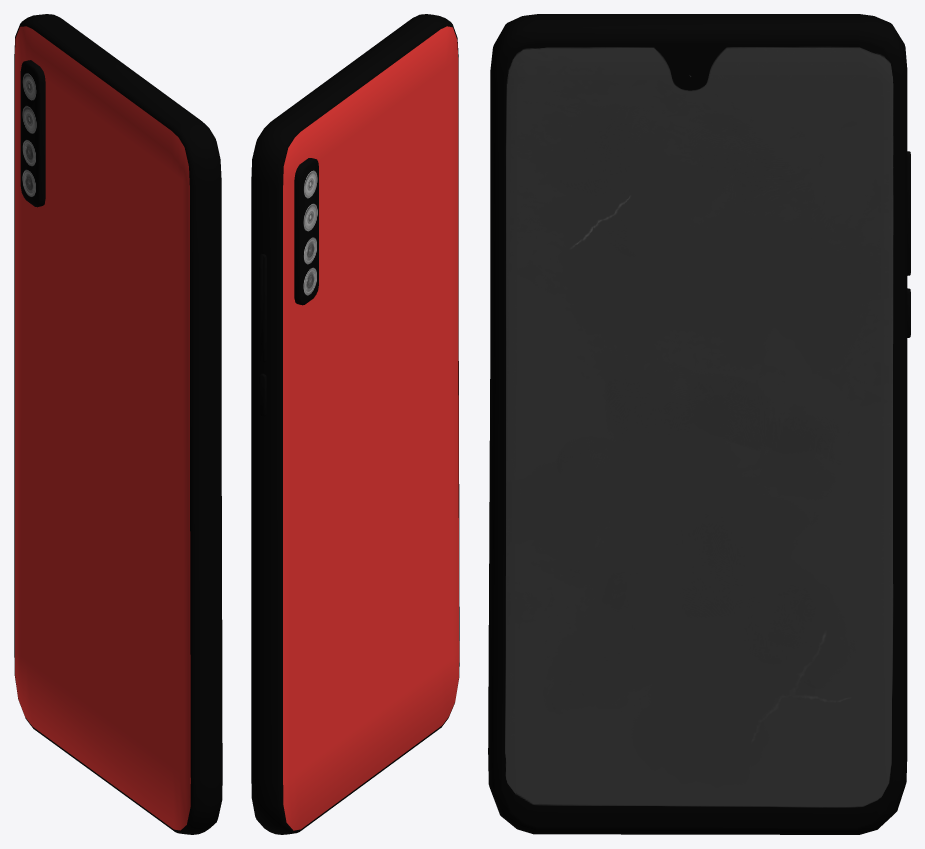
3 views of the same model, side by side, from view 1: azimuth 30°, elevation 25°; view 2: azimuth 150°, elevation 25°; view 3: azimuth 270°, elevation 25° (orthographic). The views are drawn at different scales.
Parts seen in each view (by area): view 1: Smartphone; view 2: Smartphone; view 3: Smartphone.
Boxes of the visible parts, left/top/right/bottom form: Smartphone: left=14, top=14, right=222, bottom=834; Smartphone: left=251, top=14, right=459, bottom=834; Smartphone: left=488, top=14, right=910, bottom=834.
Size of the model in its own units: 16.56 by 279 by 132.
2 materials, 1 textured.
